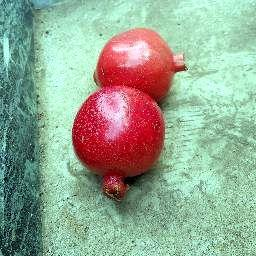pomegranate: (72, 86, 166, 201), (93, 27, 189, 106)
